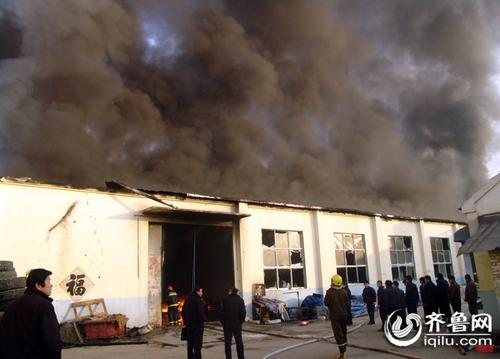smoke: (17, 6, 484, 206)
